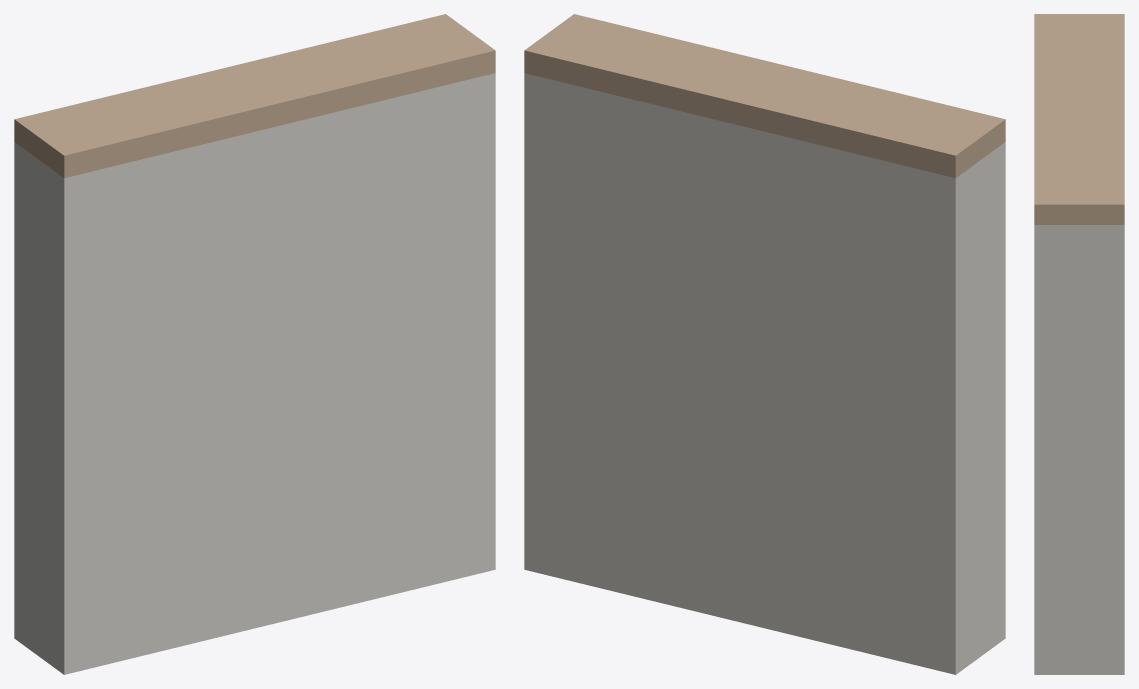
Rendered from wall_int_half_100.glb.
3 views of the same model, side by side, from view 1: azimuth 30°, elevation 25°; view 2: azimuth 150°, elevation 25°; view 3: azimuth 270°, elevation 25° (orthographic). The views are drawn at different scales.
Parts seen in each view (by area): view 1: wall_int_half_100; view 2: wall_int_half_100; view 3: wall_int_half_100.
Part boxes in pixels (x1,y1,x2,y2): wall_int_half_100: [14, 14, 495, 674]; wall_int_half_100: [524, 14, 1005, 674]; wall_int_half_100: [1034, 14, 1124, 674].
Size of what is drawn, in the model's own units: 1 by 1.15 by 0.2.
